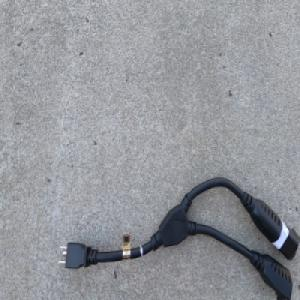Wire: (57, 176, 300, 300)
